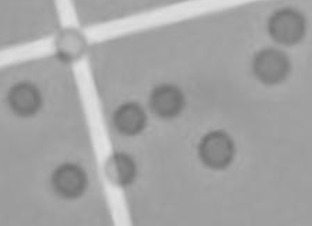cell: (247, 43, 295, 90), (194, 126, 238, 174), (46, 156, 91, 201), (263, 5, 308, 48), (48, 20, 90, 64), (99, 146, 141, 190), (3, 75, 45, 118), (108, 97, 150, 139), (147, 80, 185, 120)
